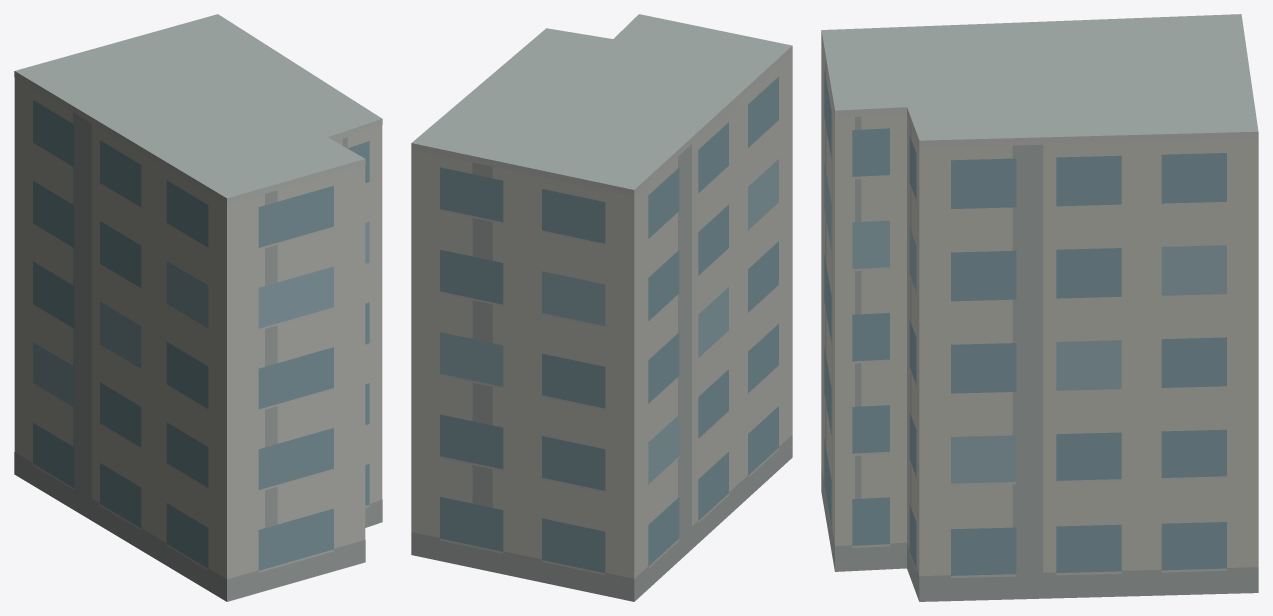
Rendered from survey-upis-32642489.glb.
3 views of the same model, side by side, from view 1: azimuth 30°, elevation 25°; view 2: azimuth 150°, elevation 25°; view 3: azimuth 270°, elevation 25° (orthographic). The views are drawn at different scales.
Parts seen in each view (by area): view 1: survey-upis-32642489.tmp; view 2: survey-upis-32642489.tmp; view 3: survey-upis-32642489.tmp.
Boxes of the visible parts, bbox=[...] form: survey-upis-32642489.tmp: bbox=[14, 14, 382, 601]; survey-upis-32642489.tmp: bbox=[411, 14, 792, 601]; survey-upis-32642489.tmp: bbox=[821, 14, 1258, 601].
Bounding box in the file's own units: 8.99 × 15.25 × 13.11.
